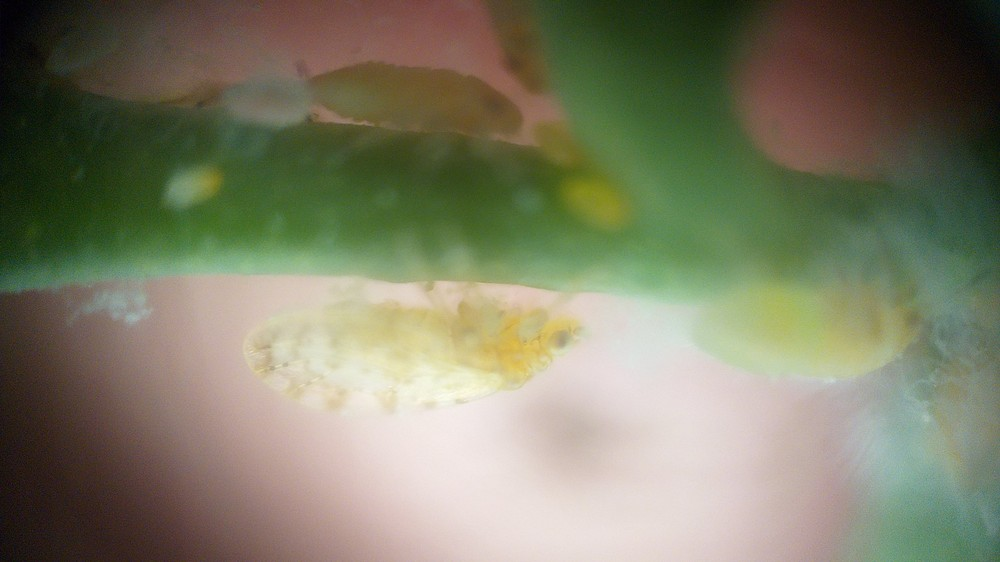Mosca Blanca: (243, 261, 614, 446)
